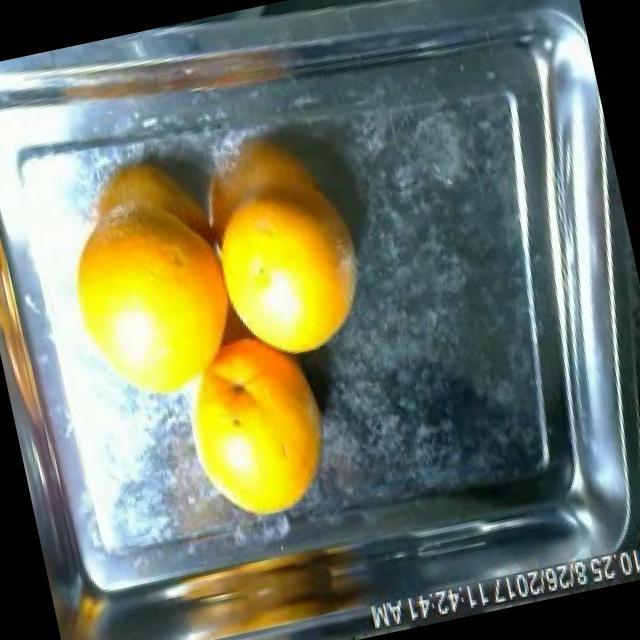Fruit: (160, 314, 357, 548), (196, 166, 390, 381), (533, 0, 581, 16)
